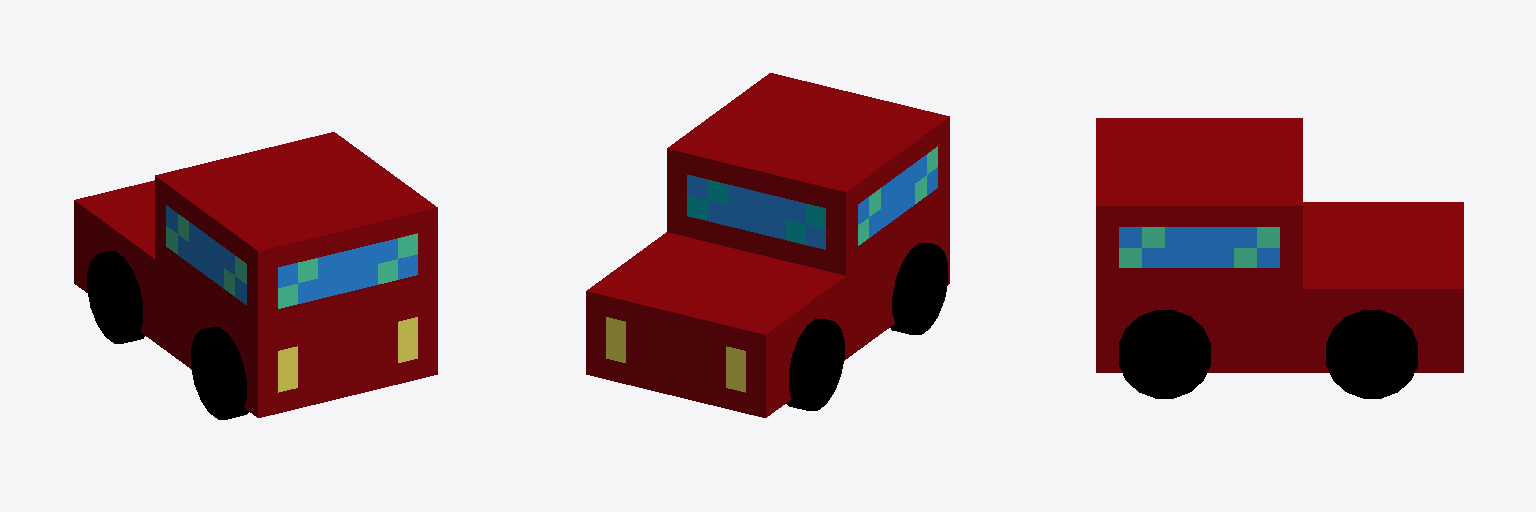
3 views of the same model, side by side, from view 1: azimuth 30°, elevation 25°; view 2: azimuth 150°, elevation 25°; view 3: azimuth 270°, elevation 25° (orthographic).
Parts seen in each view (by area): view 1: cube, hexadecagon; view 2: cube, hexadecagon; view 3: cube, hexadecagon.
Boxes of the visible parts, x1=… form: cube: x1=74, y1=132, x2=437, y2=417; hexadecagon: x1=87, y1=251, x2=248, y2=419; cube: x1=586, y1=73, x2=949, y2=417; hexadecagon: x1=786, y1=243, x2=947, y2=410; cube: x1=1096, y1=118, x2=1463, y2=372; hexadecagon: x1=1119, y1=310, x2=1417, y2=398.
Size of the model in its own units: 0.625 by 0.5625 by 1.
1 materials, 1 textured.